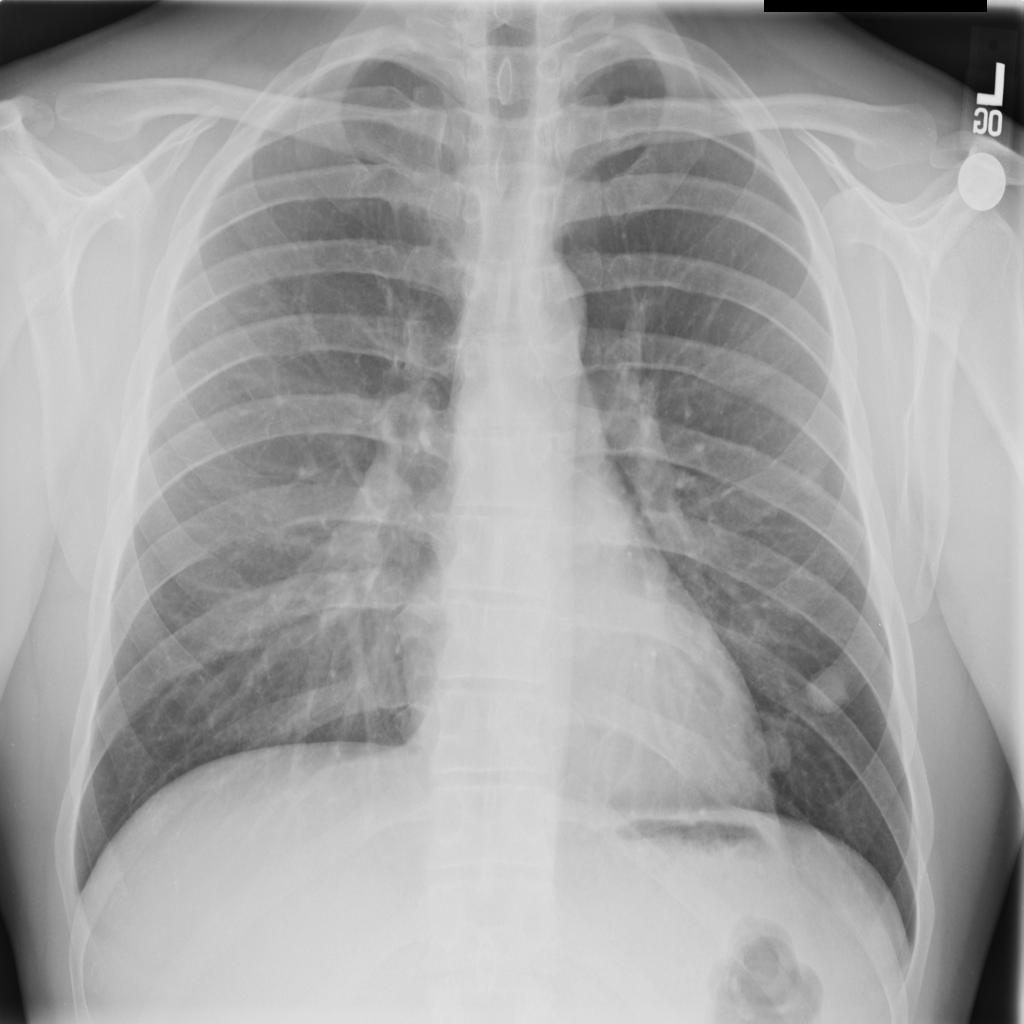nodule: (795, 649, 863, 728), (739, 709, 808, 783), (790, 451, 839, 507)
